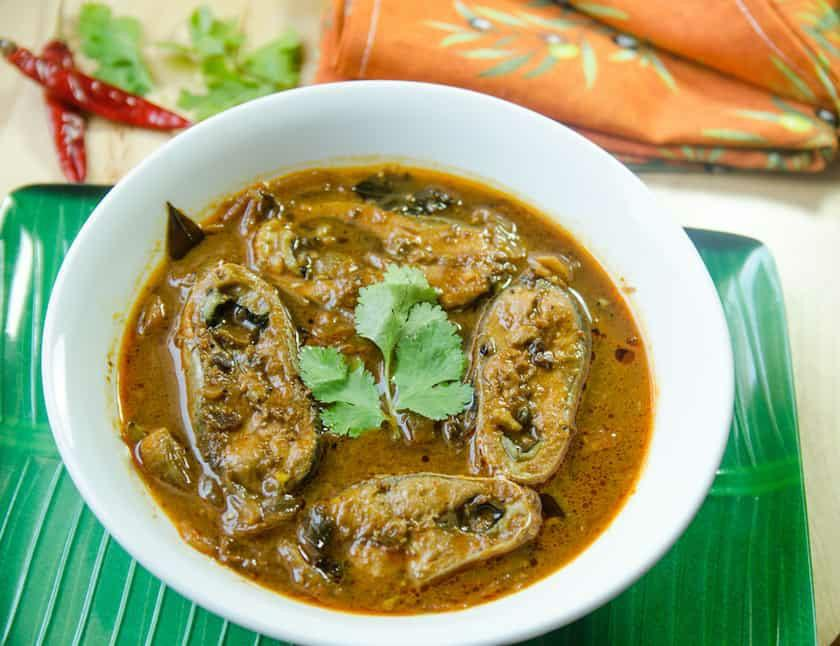FishCurry: (120, 167, 652, 618)
